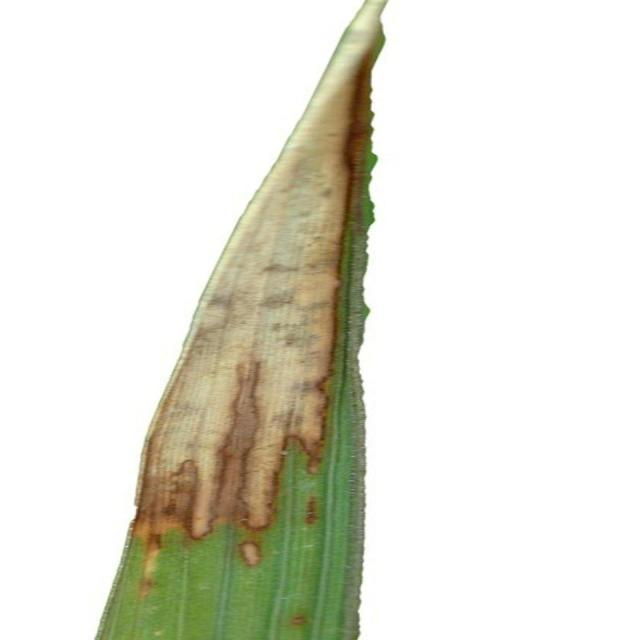Leaf scald: (1, 3, 414, 640)
